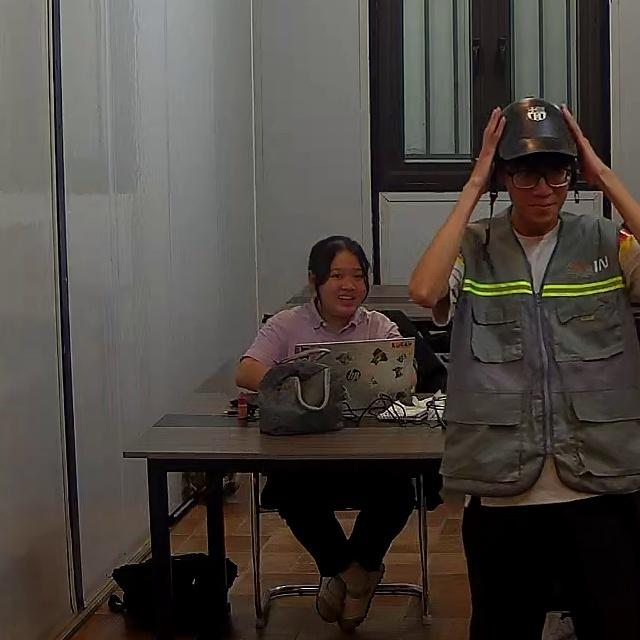helmet: (493, 96, 581, 164)
no_helmet: (307, 236, 370, 304)
none: (240, 300, 405, 389)
vest: (439, 210, 638, 499)
